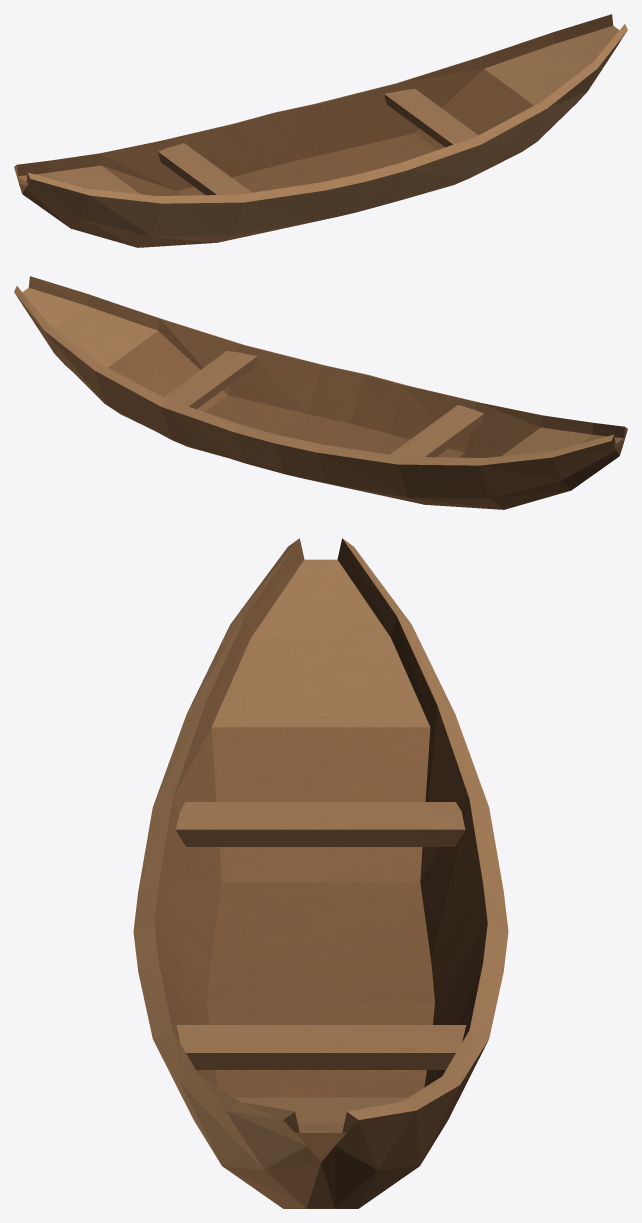
The model's file is 05a_boat_hull.obj.
The picture shows the model from 3 angles, top to bottom: view 1: azimuth 30°, elevation 25°; view 2: azimuth 150°, elevation 25°; view 3: azimuth 270°, elevation 25°; orthographic projection. The views are drawn at different scales.
Visible parts, largest first — view 1: Boat_Hull; view 2: Boat_Hull; view 3: Boat_Hull.
Boxes of the visible parts, x1,y1,x2,y2 form: Boat_Hull: (14, 14, 627, 247); Boat_Hull: (14, 276, 627, 509); Boat_Hull: (133, 538, 508, 1208).
Size of the model in its own units: 2.92 by 0.52 by 0.7952.
Materials: 1 (1 with a texture image).
